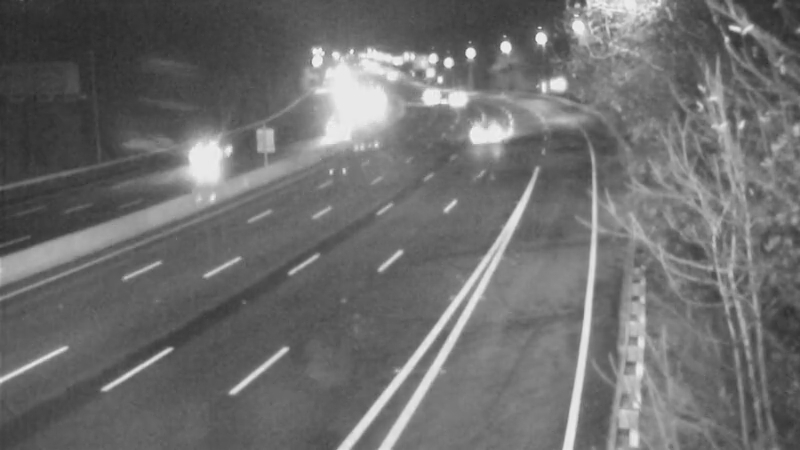vehicle: (168, 122, 248, 202), (400, 69, 450, 119), (434, 75, 484, 125), (461, 98, 511, 148)
